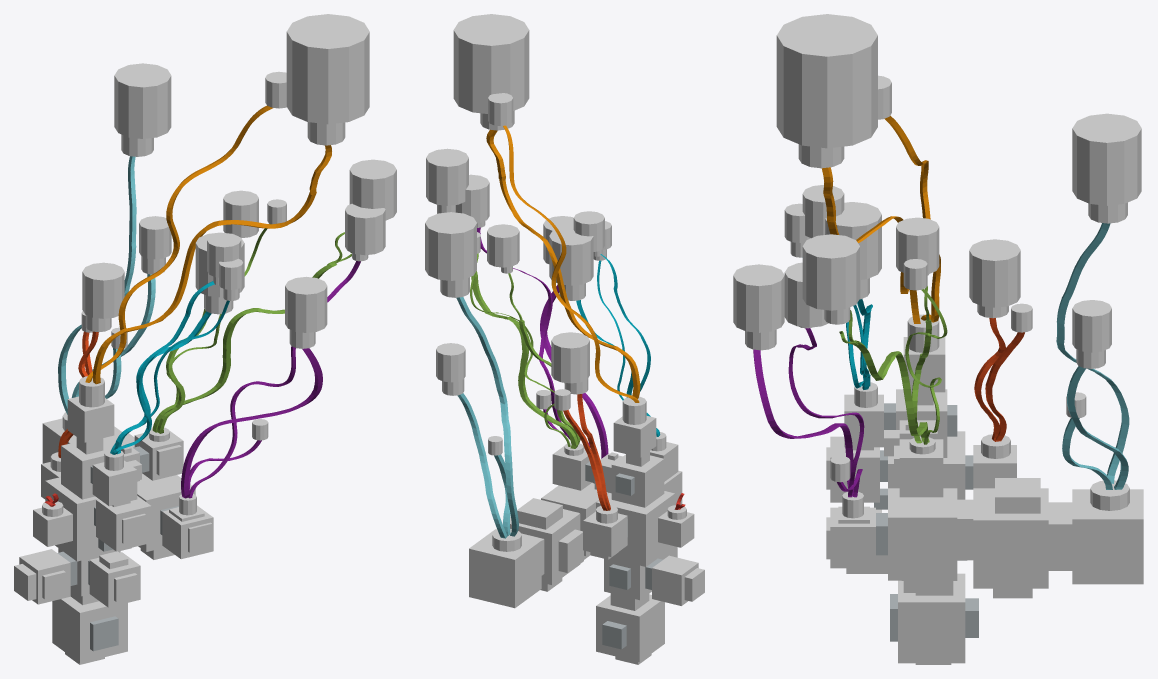
File: WireTower.glb
3 views of the same model, side by side, from view 1: azimuth 30°, elevation 25°; view 2: azimuth 150°, elevation 25°; view 3: azimuth 270°, elevation 25° (orthographic). The views are drawn at different scales.
Parts seen in each view (by area): view 1: node_MeshObject1425736896-PolyPaper21, node_MeshObject-1871058112-PolyPaper9, node_MeshObject1537880832-PolyPaper3; view 2: node_MeshObject1425736896-PolyPaper21, node_MeshObject-1871058112-PolyPaper9, node_MeshObject1537880832-PolyPaper3; view 3: node_MeshObject1425736896-PolyPaper21, node_MeshObject-1871058112-PolyPaper9, node_MeshObject1537880832-PolyPaper3.
Part boxes in pixels (<box>): node_MeshObject1425736896-PolyPaper21: <box>14,14,396,664</box>; node_MeshObject-1871058112-PolyPaper9: <box>42,223,360,516</box>; node_MeshObject1537880832-PolyPaper3: <box>58,63,171,414</box>; node_MeshObject1425736896-PolyPaper21: <box>426,14,704,664</box>; node_MeshObject-1871058112-PolyPaper9: <box>469,216,686,608</box>; node_MeshObject1537880832-PolyPaper3: <box>425,212,518,538</box>; node_MeshObject1425736896-PolyPaper21: <box>776,14,1032,664</box>; node_MeshObject-1871058112-PolyPaper9: <box>733,264,1143,598</box>; node_MeshObject1537880832-PolyPaper3: <box>1056,113,1141,489</box>.
Size of the model in its own units: 2.37 by 4.12 by 2.07.
